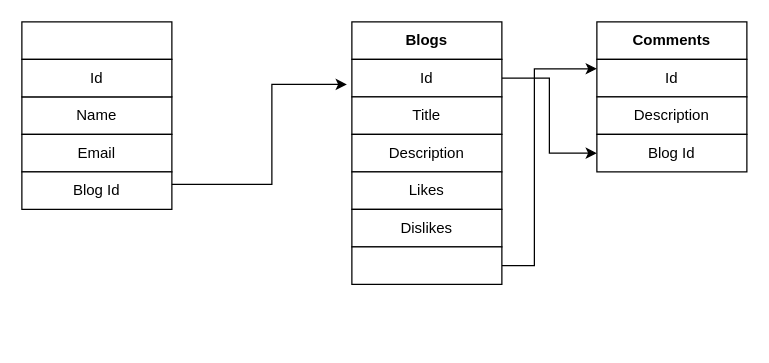
Image size: 769x363. Some labels were removed from this diagram. Here are the shapes that lost their labels. From the top down, the box of each, then its label:
(21, 21, 172, 59): Users
(351, 246, 502, 284): Comment Id
